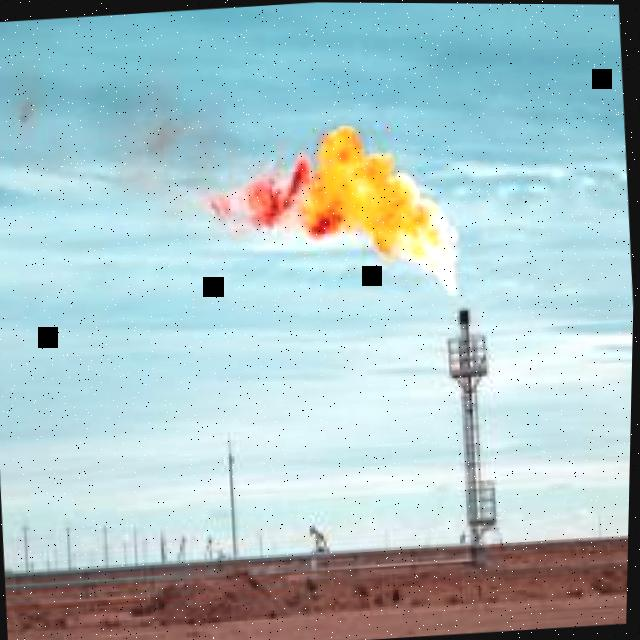fire: (215, 125, 457, 295)
smoke: (15, 70, 267, 222)
